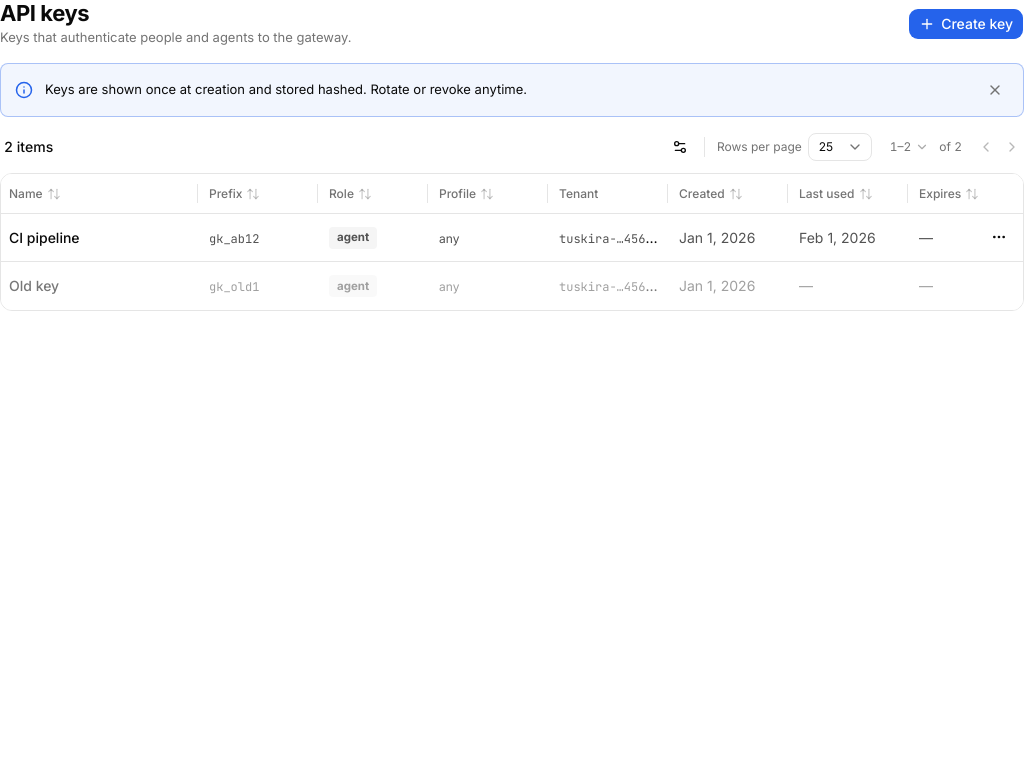
Test: ApiKeysPage › offers rotate and revoke from the row menu, but not on a revoked key
Expected: the text "CI pipeline" is shown, [9,228,80,246]
Click the button named "Actions for CI pipeline". click: (999, 237)
box: [987,225,1011,249]
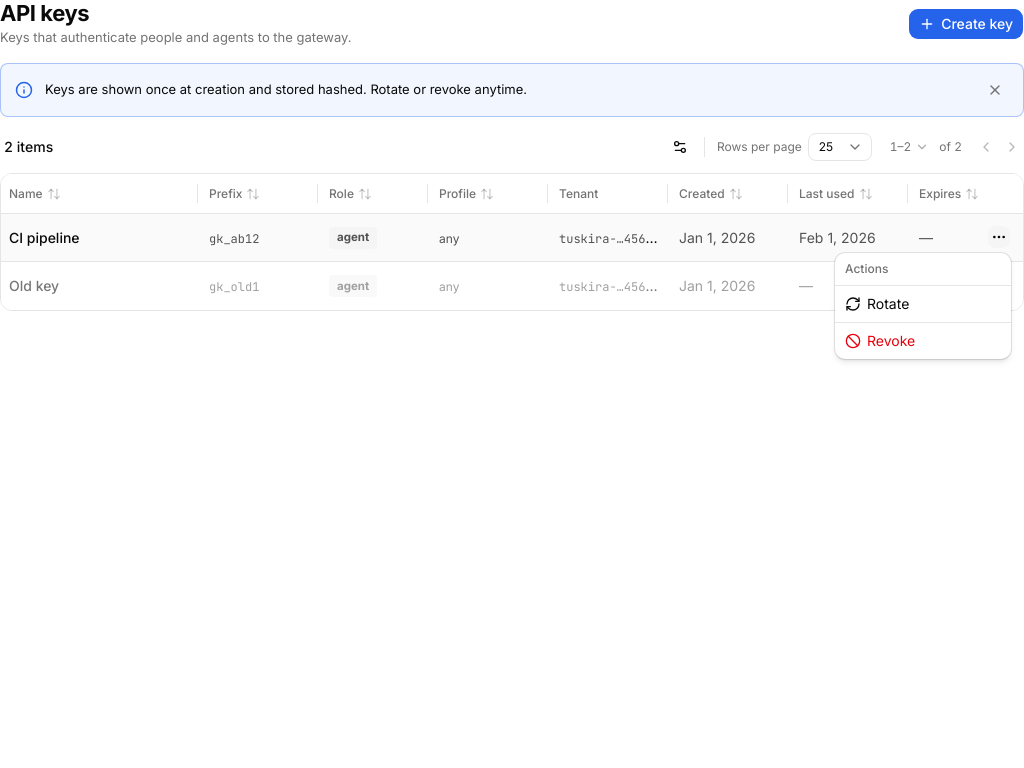
Click the menu item "Revoke". click: (880, 340)
box: [845,332,915,349]
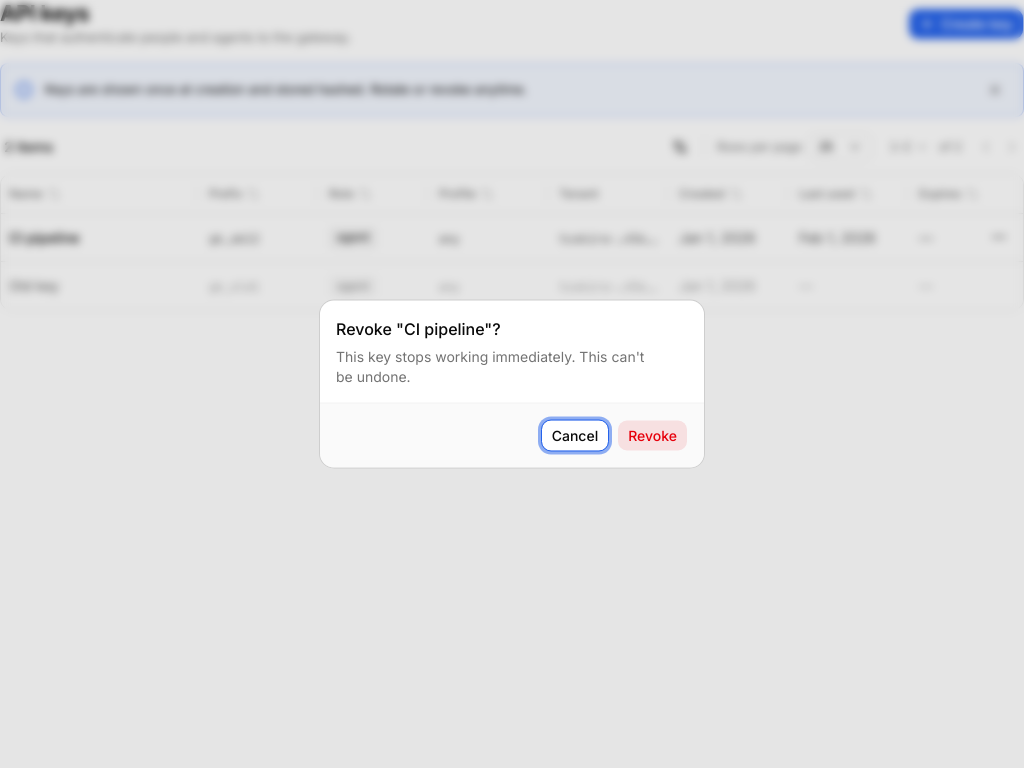
Result: the heading "Revoke \"CI pipeline\"?" is shown at [336,316,501,340]
